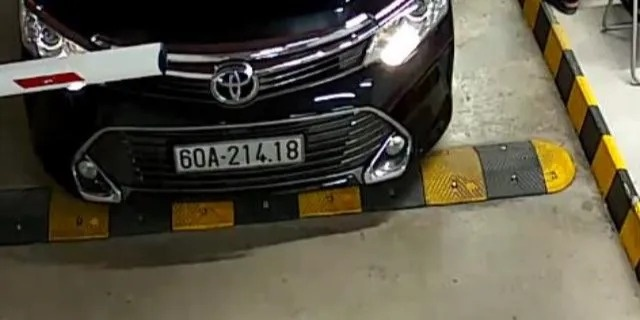bien_so: (178, 141, 304, 168)
